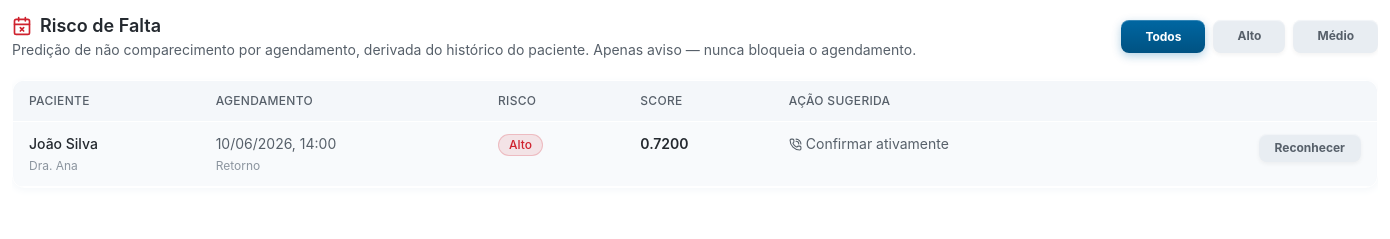
it: FaltasPage › acknowledges a risk and removes it from the list
The width and height of the screenshot is (1390, 239).
Expected: the text "João Silva" is shown, [29, 135, 98, 152]
Click the button "Reconhecer": click(1310, 148) [1258, 134, 1361, 162]
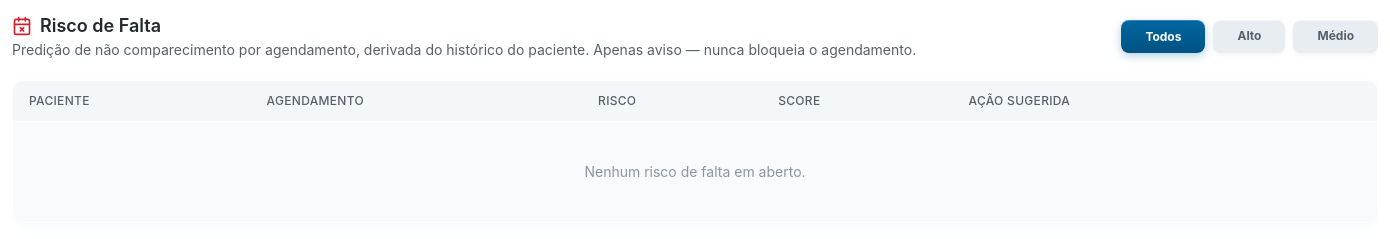
Expected: the text "João Silva" is gone
Expected: the text "Nenhum risco de falta em aberto." is shown, [13, 122, 1377, 222]
